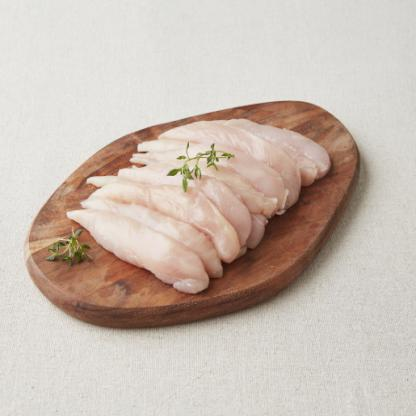chicken: (62, 206, 214, 306), (166, 106, 344, 188), (134, 134, 293, 218), (93, 169, 241, 256)
